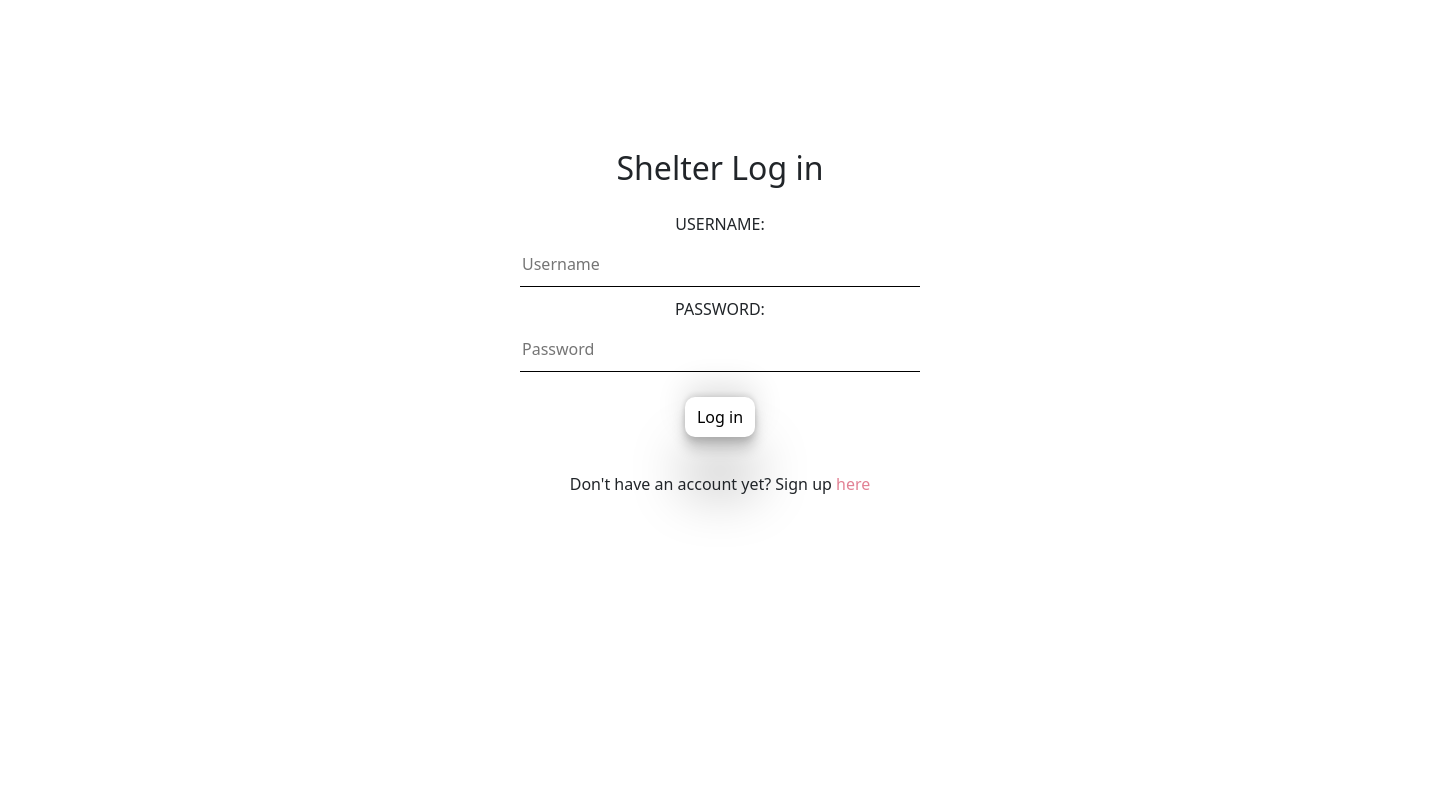
Test: shows error if the form is submitted wihtout required fields
Note: click the log in button without filling out the form
What coordinates should you click on to do the following:
click the button "Log in"
I would click on:
 (720, 417)
Its box is [685,397,755,437].
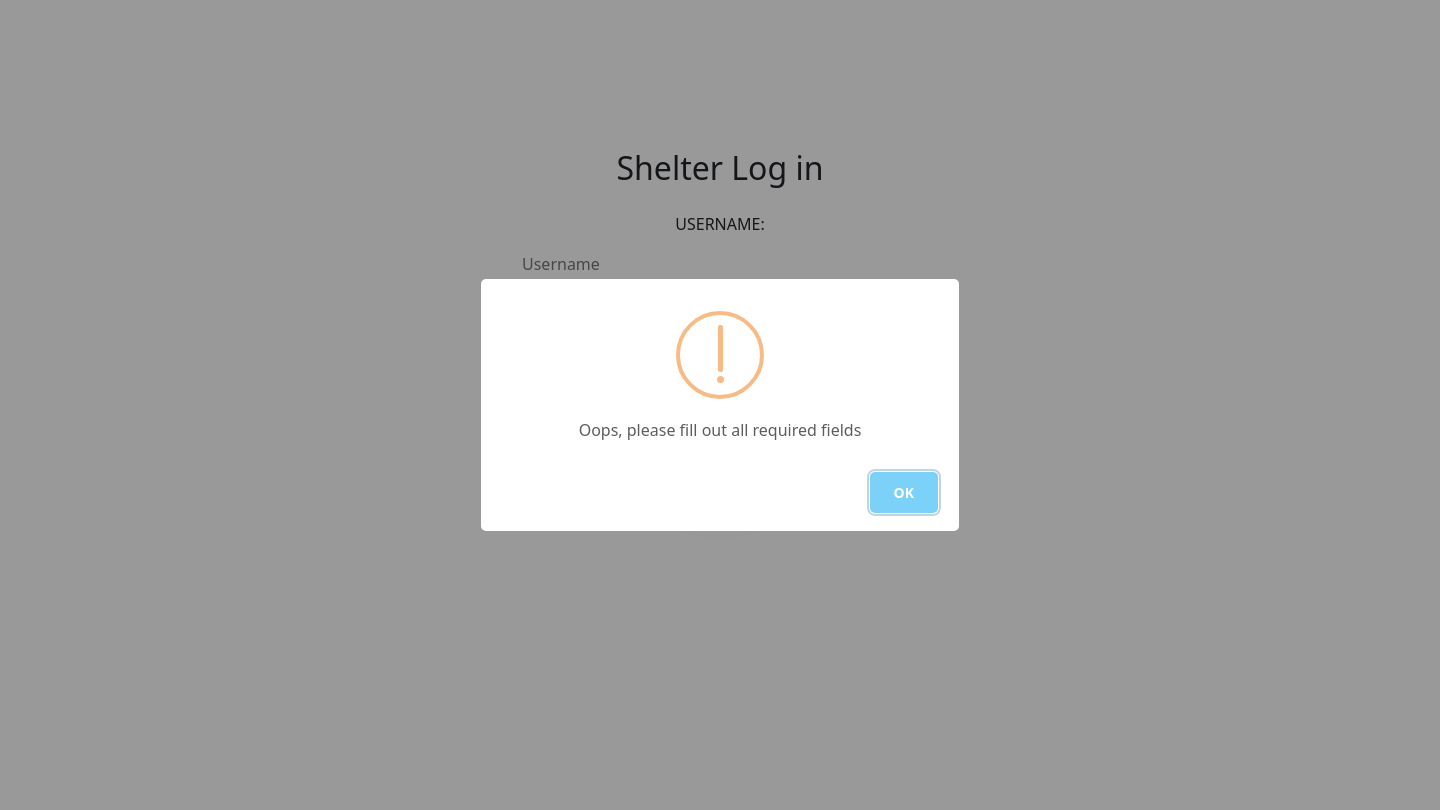
Now the text "Oops, please fill out all required fields" is shown, box [569,419,871,441]
